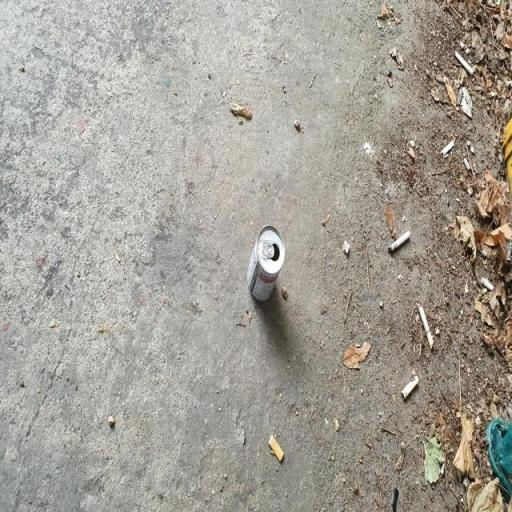metal: (238, 214, 290, 310)
